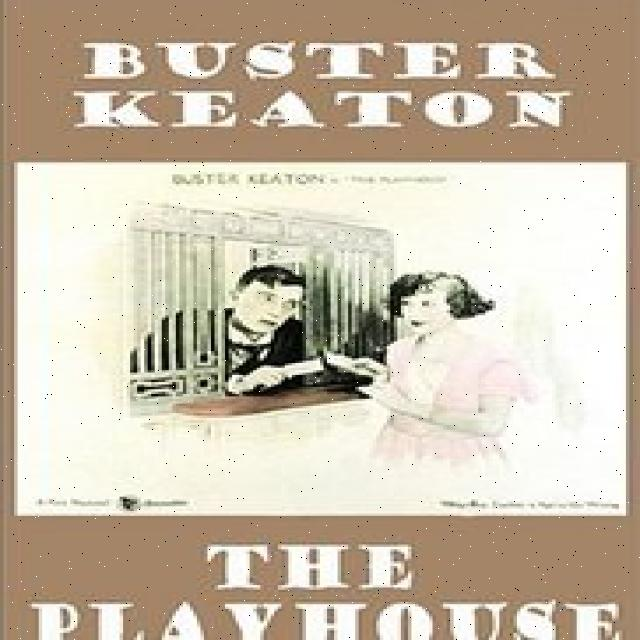movie-judul: (65, 17, 594, 149), (28, 525, 623, 640)
picture: (89, 196, 575, 488)
